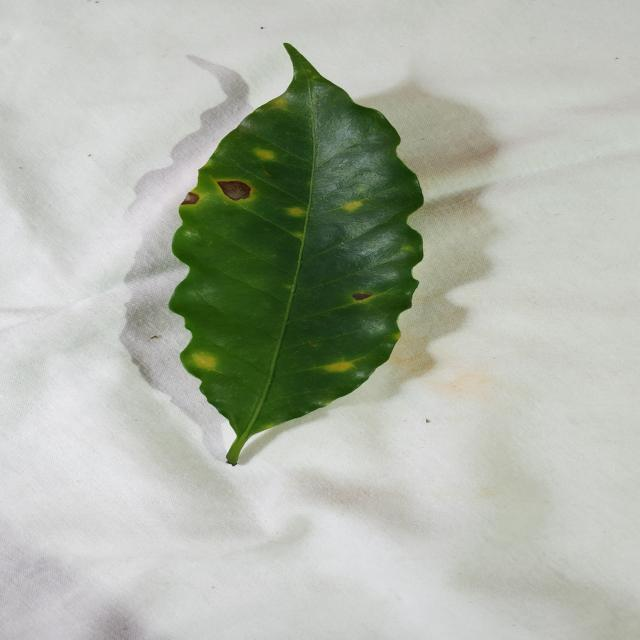Enfermedad-Roya: (166, 45, 426, 467)
